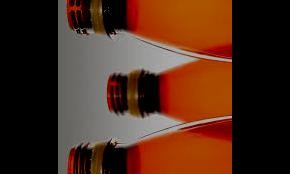Plastic: (65, 0, 230, 62)
